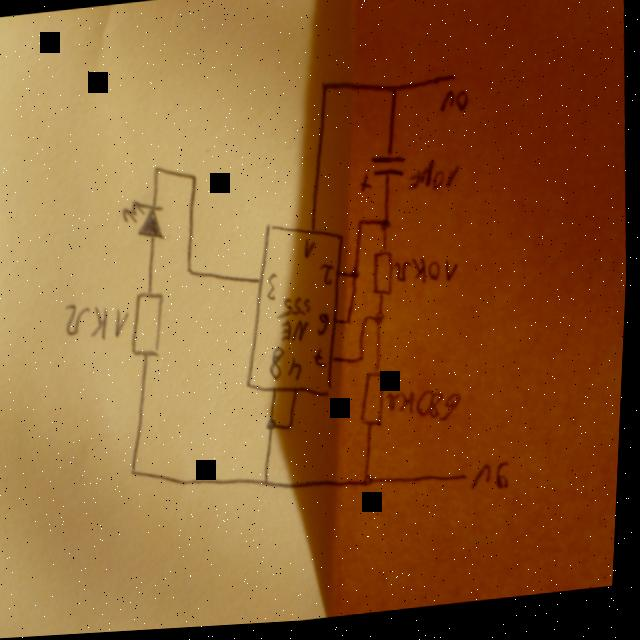capacitor: (359, 154, 409, 198)
diode: (121, 198, 169, 246)
junction: (375, 313, 389, 333), (365, 477, 379, 495), (268, 419, 282, 436), (382, 221, 395, 239), (185, 264, 198, 281), (353, 271, 364, 288), (390, 85, 401, 102), (321, 84, 333, 99), (265, 478, 276, 494), (132, 466, 143, 482), (190, 173, 202, 187), (289, 421, 300, 436), (359, 221, 369, 235), (360, 358, 370, 371), (154, 166, 164, 179), (347, 320, 357, 332), (367, 318, 375, 330)
resistor: (131, 292, 171, 363), (361, 376, 392, 434), (372, 254, 398, 302)
terminal: (447, 74, 459, 90), (465, 478, 474, 488)
text: (388, 389, 467, 434), (65, 298, 134, 347), (394, 258, 462, 295), (407, 161, 464, 200), (277, 298, 317, 348), (472, 466, 516, 501), (438, 91, 472, 121), (271, 349, 290, 387), (289, 359, 307, 387), (266, 275, 282, 306), (320, 265, 338, 291), (317, 315, 335, 341), (315, 350, 332, 375), (304, 239, 320, 265)
